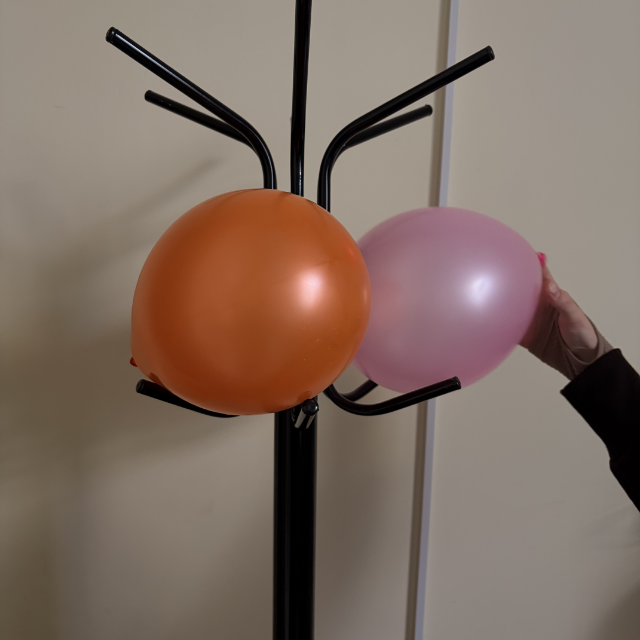balloon: (129, 188, 373, 416), (350, 207, 547, 395)
